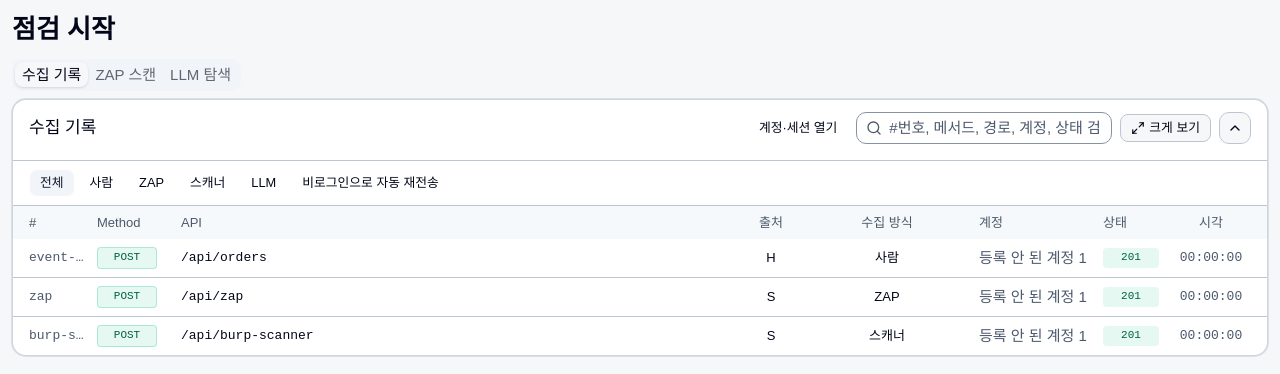
it: unified inspection hub › labels scanner records that did not come from ZAP as 스캐너, not ZAP
This screenshot has width=1280, height=374.
Expected: the text "ZAP" is shown, [874,289,900,304]
Expected: the text "스캐너" is shown, [869,328,905,343]
Click the button "ZAP". click: (152, 183)
box: [128,169,175,197]
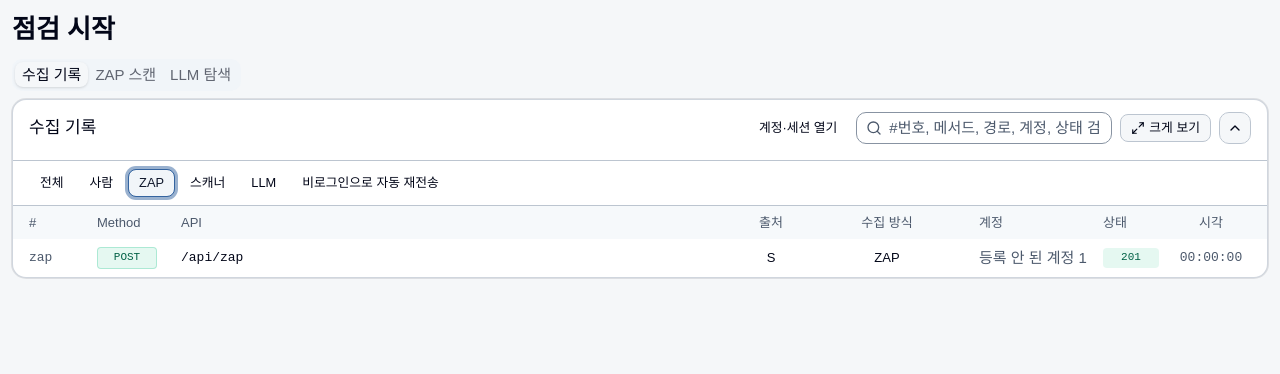
Click the button "스캐너". click: (208, 183)
box: [179,169,236,197]
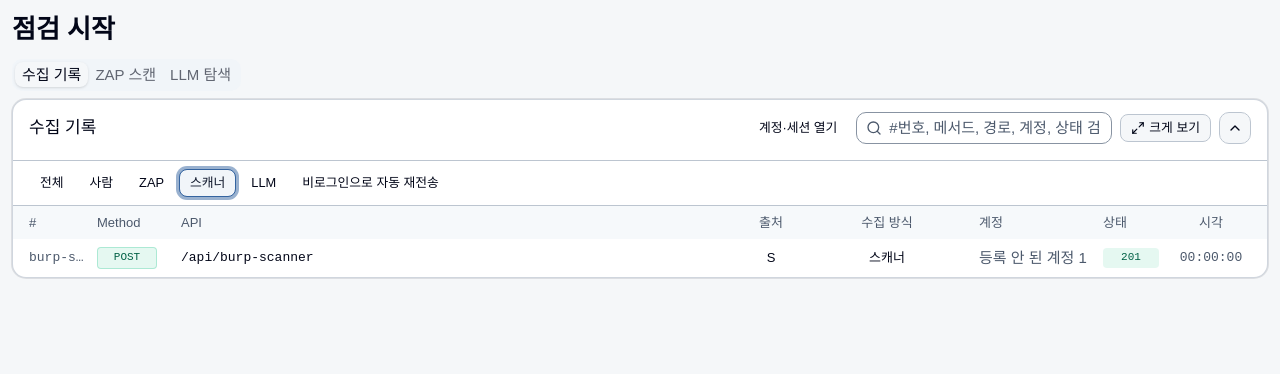
Result: the button "api/burp-scanner" is shown at [13,239,1267,277]
